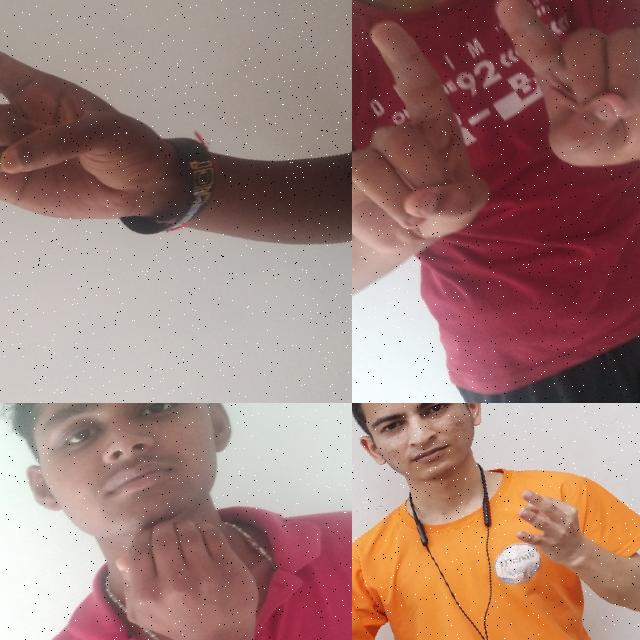Chin Flick: (0, 403, 352, 640)
Corna: (0, 0, 226, 329), (352, 0, 510, 307), (475, 0, 640, 210)
